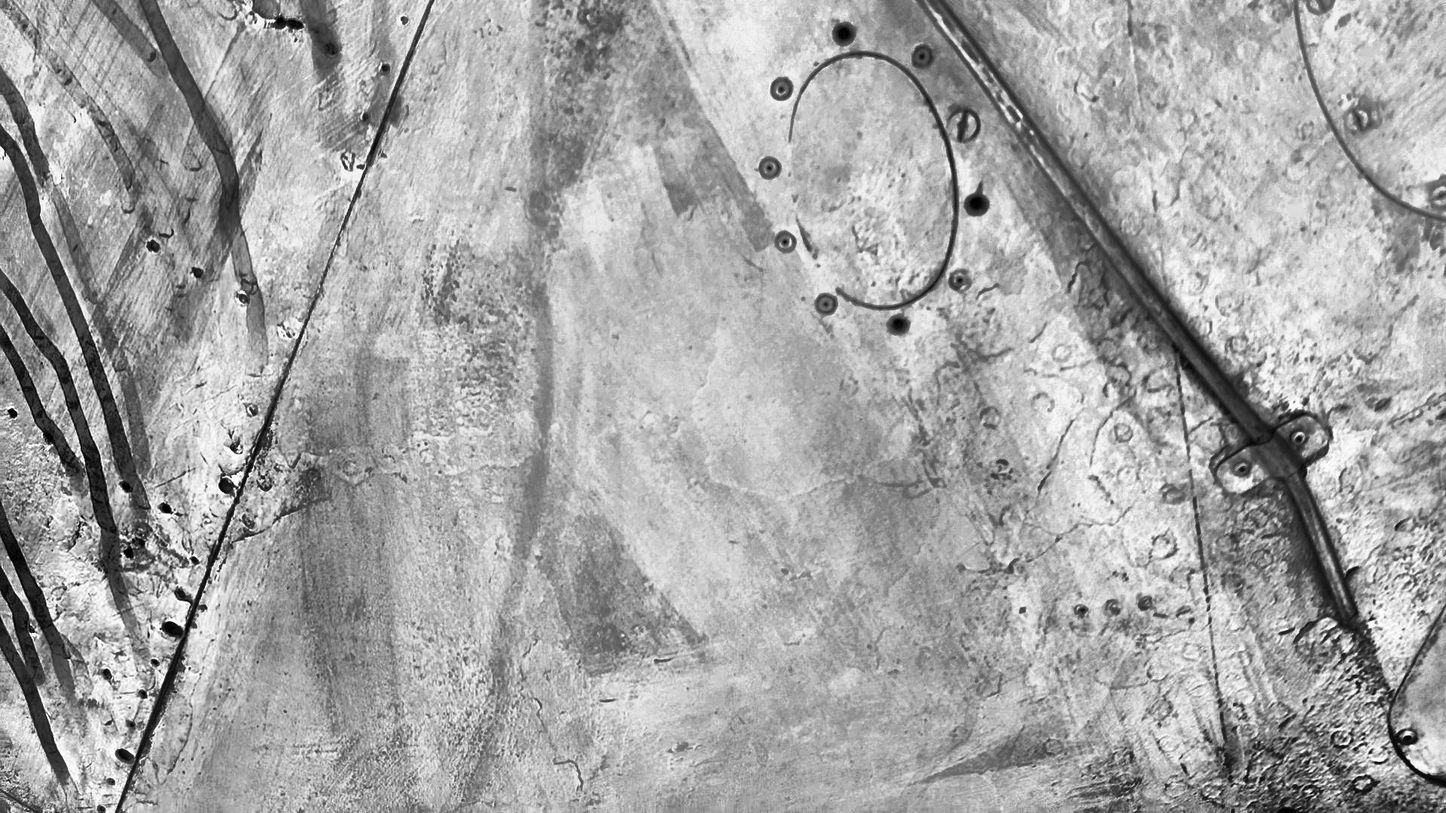crack: (245, 4, 331, 53)
missing-head: (832, 24, 857, 43), (968, 194, 987, 216), (889, 318, 911, 333), (162, 619, 179, 638), (115, 747, 136, 762), (117, 478, 136, 493), (41, 431, 58, 446), (160, 502, 173, 516), (378, 60, 390, 75), (220, 478, 232, 493), (9, 406, 21, 420), (151, 655, 162, 668), (139, 685, 147, 700), (128, 719, 136, 728)
